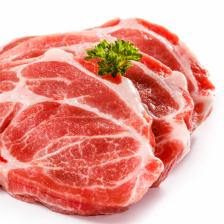meat: (0, 17, 216, 216)
